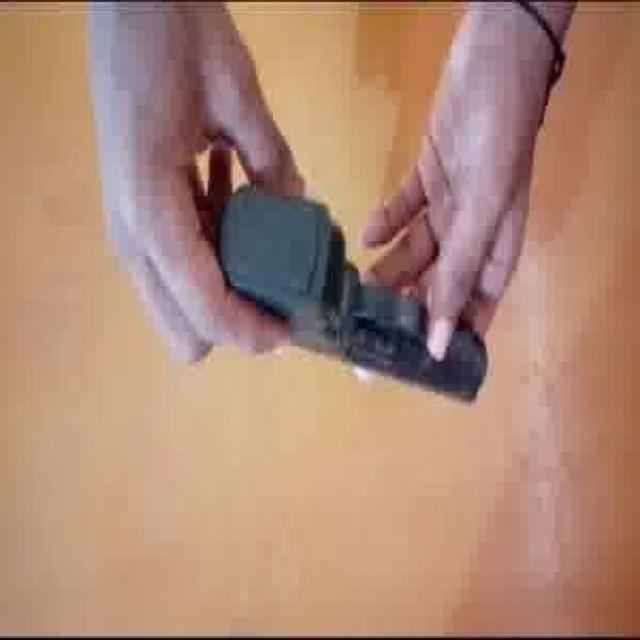weapon: (196, 145, 489, 401)
